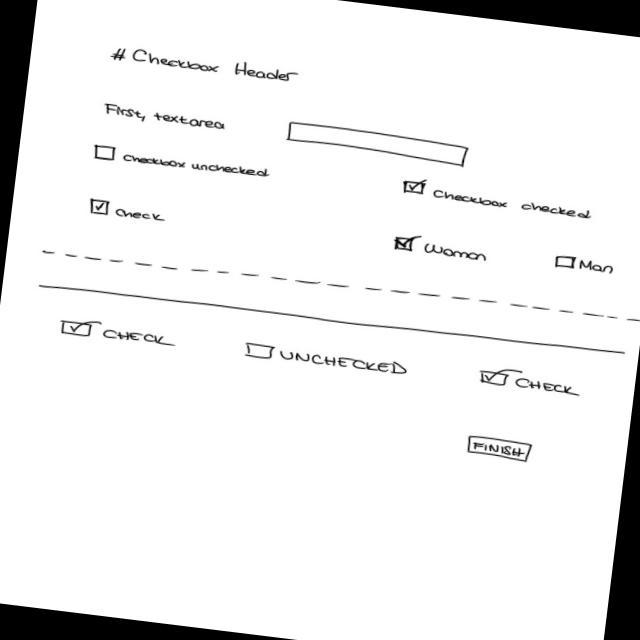button: (466, 433, 535, 465)
checkbox: (401, 176, 597, 222), (91, 143, 272, 183), (245, 341, 414, 378), (58, 316, 179, 350), (478, 364, 585, 399), (392, 233, 491, 264), (88, 197, 169, 224), (553, 255, 619, 279)
input: (286, 120, 471, 169)
label: (109, 45, 301, 88), (103, 102, 230, 134)
